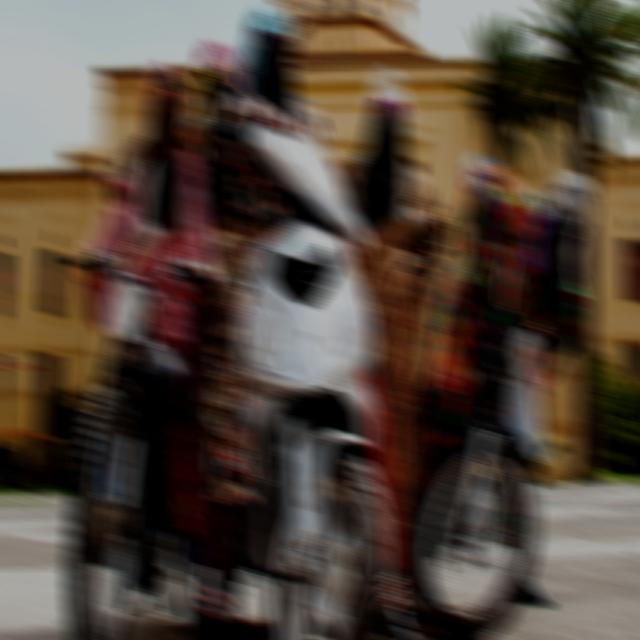Without Helmet: (540, 123, 602, 256), (237, 0, 309, 99), (138, 44, 194, 146), (136, 50, 194, 144), (363, 52, 412, 138)
